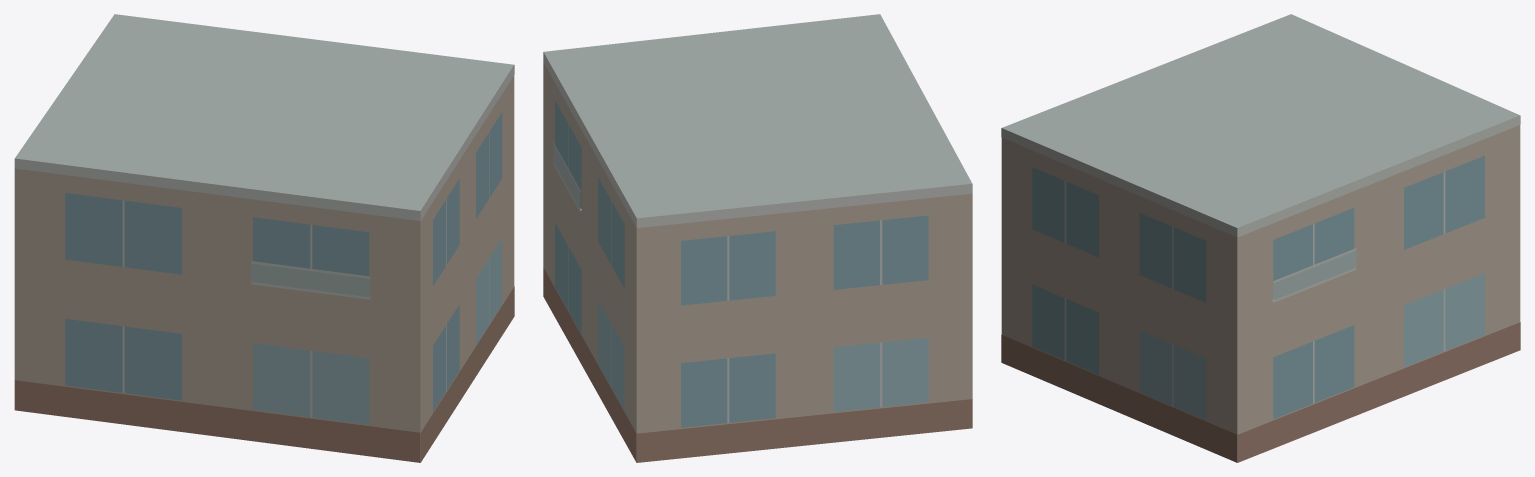
File: survey-upis-32821264.glb
3 views of the same model, side by side, from view 1: azimuth 30°, elevation 25°; view 2: azimuth 150°, elevation 25°; view 3: azimuth 270°, elevation 25° (orthographic). The views are drawn at different scales.
Parts seen in each view (by area): view 1: survey-upis-32821264.tmp; view 2: survey-upis-32821264.tmp; view 3: survey-upis-32821264.tmp.
Part boxes in pixels (x1=…): survey-upis-32821264.tmp: x1=14, y1=14, x2=514, y2=462; survey-upis-32821264.tmp: x1=543, y1=14, x2=972, y2=462; survey-upis-32821264.tmp: x1=1001, y1=14, x2=1520, y2=462.
Bounding box in the file's own units: 11.94 × 6.1 × 12.23.
